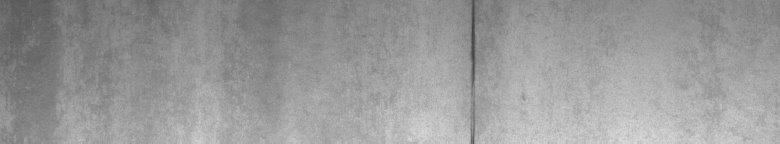hd: (464, 4, 525, 136)
